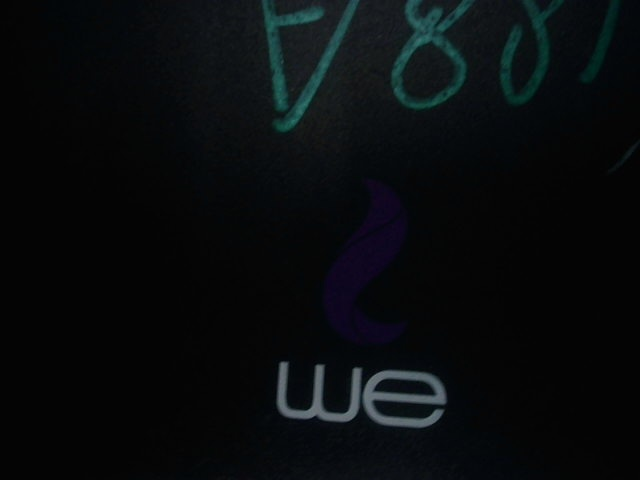AT_We: (261, 173, 460, 432)
